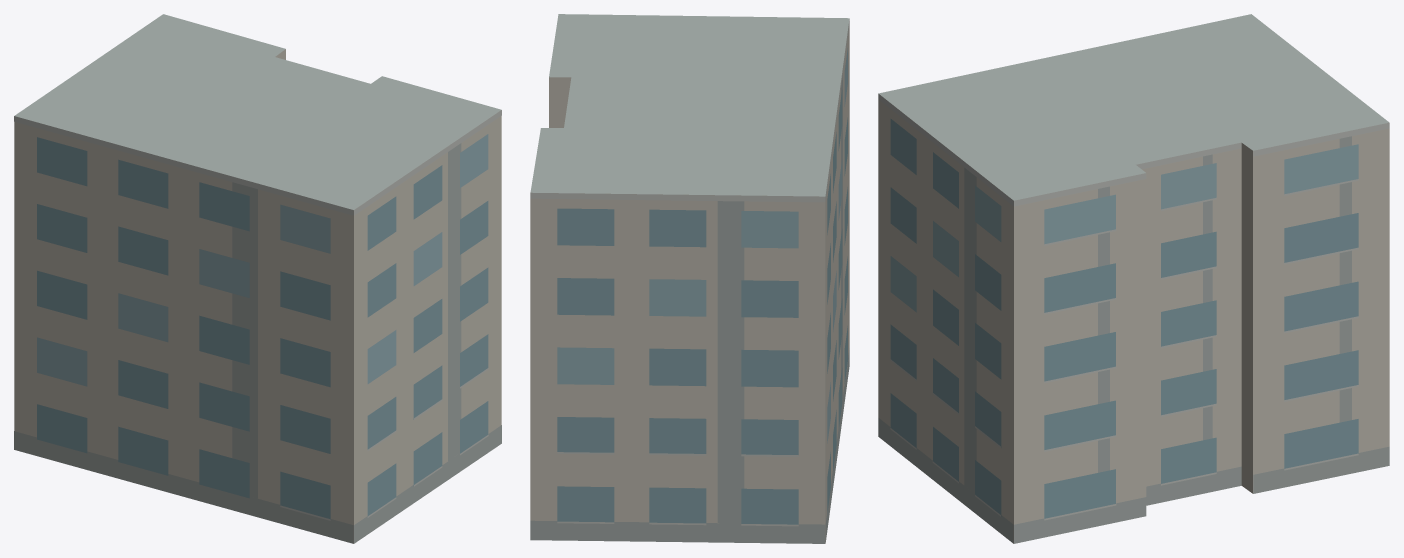
Rendered from survey-upis-32952538.glb.
3 renders of one model, left to right at view 1: azimuth 30°, elevation 25°; view 2: azimuth 150°, elevation 25°; view 3: azimuth 270°, elevation 25°, orthographic. The views are drawn at different scales.
Visible parts, largest first — view 1: survey-upis-32952538.tmp; view 2: survey-upis-32952538.tmp; view 3: survey-upis-32952538.tmp.
Part boxes in pixels (box(x1,y1,x2,y2)): survey-upis-32952538.tmp: box(14, 14, 501, 543); survey-upis-32952538.tmp: box(530, 14, 849, 543); survey-upis-32952538.tmp: box(878, 14, 1389, 543).
Bounding box in the file's own units: 16.69 × 14.3 × 19.31.
